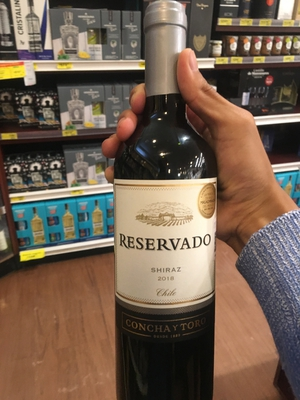reservado shiraz: (111, 18, 225, 395)
